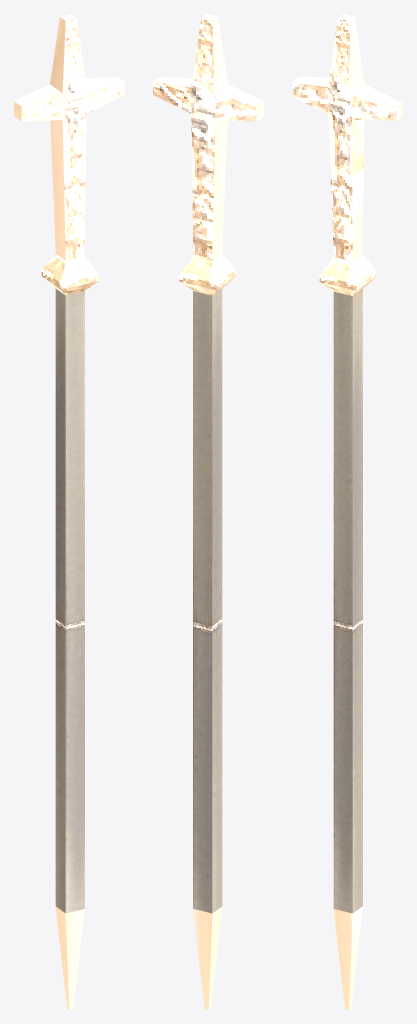
File: staff.glb
3 renders of one model, left to right at view 1: azimuth 30°, elevation 25°; view 2: azimuth 150°, elevation 25°; view 3: azimuth 330°, elevation 25°, orthographic.
Parts seen in each view (by area): view 1: Cube; view 2: Cube; view 3: Cube.
Part boxes in pixels (<box>): Cube: <box>14,14,124,1009</box>; Cube: <box>153,14,263,1009</box>; Cube: <box>292,14,402,1009</box>.
Bounding box in the file's own units: 0.4977 × 4.54 × 0.1627.
